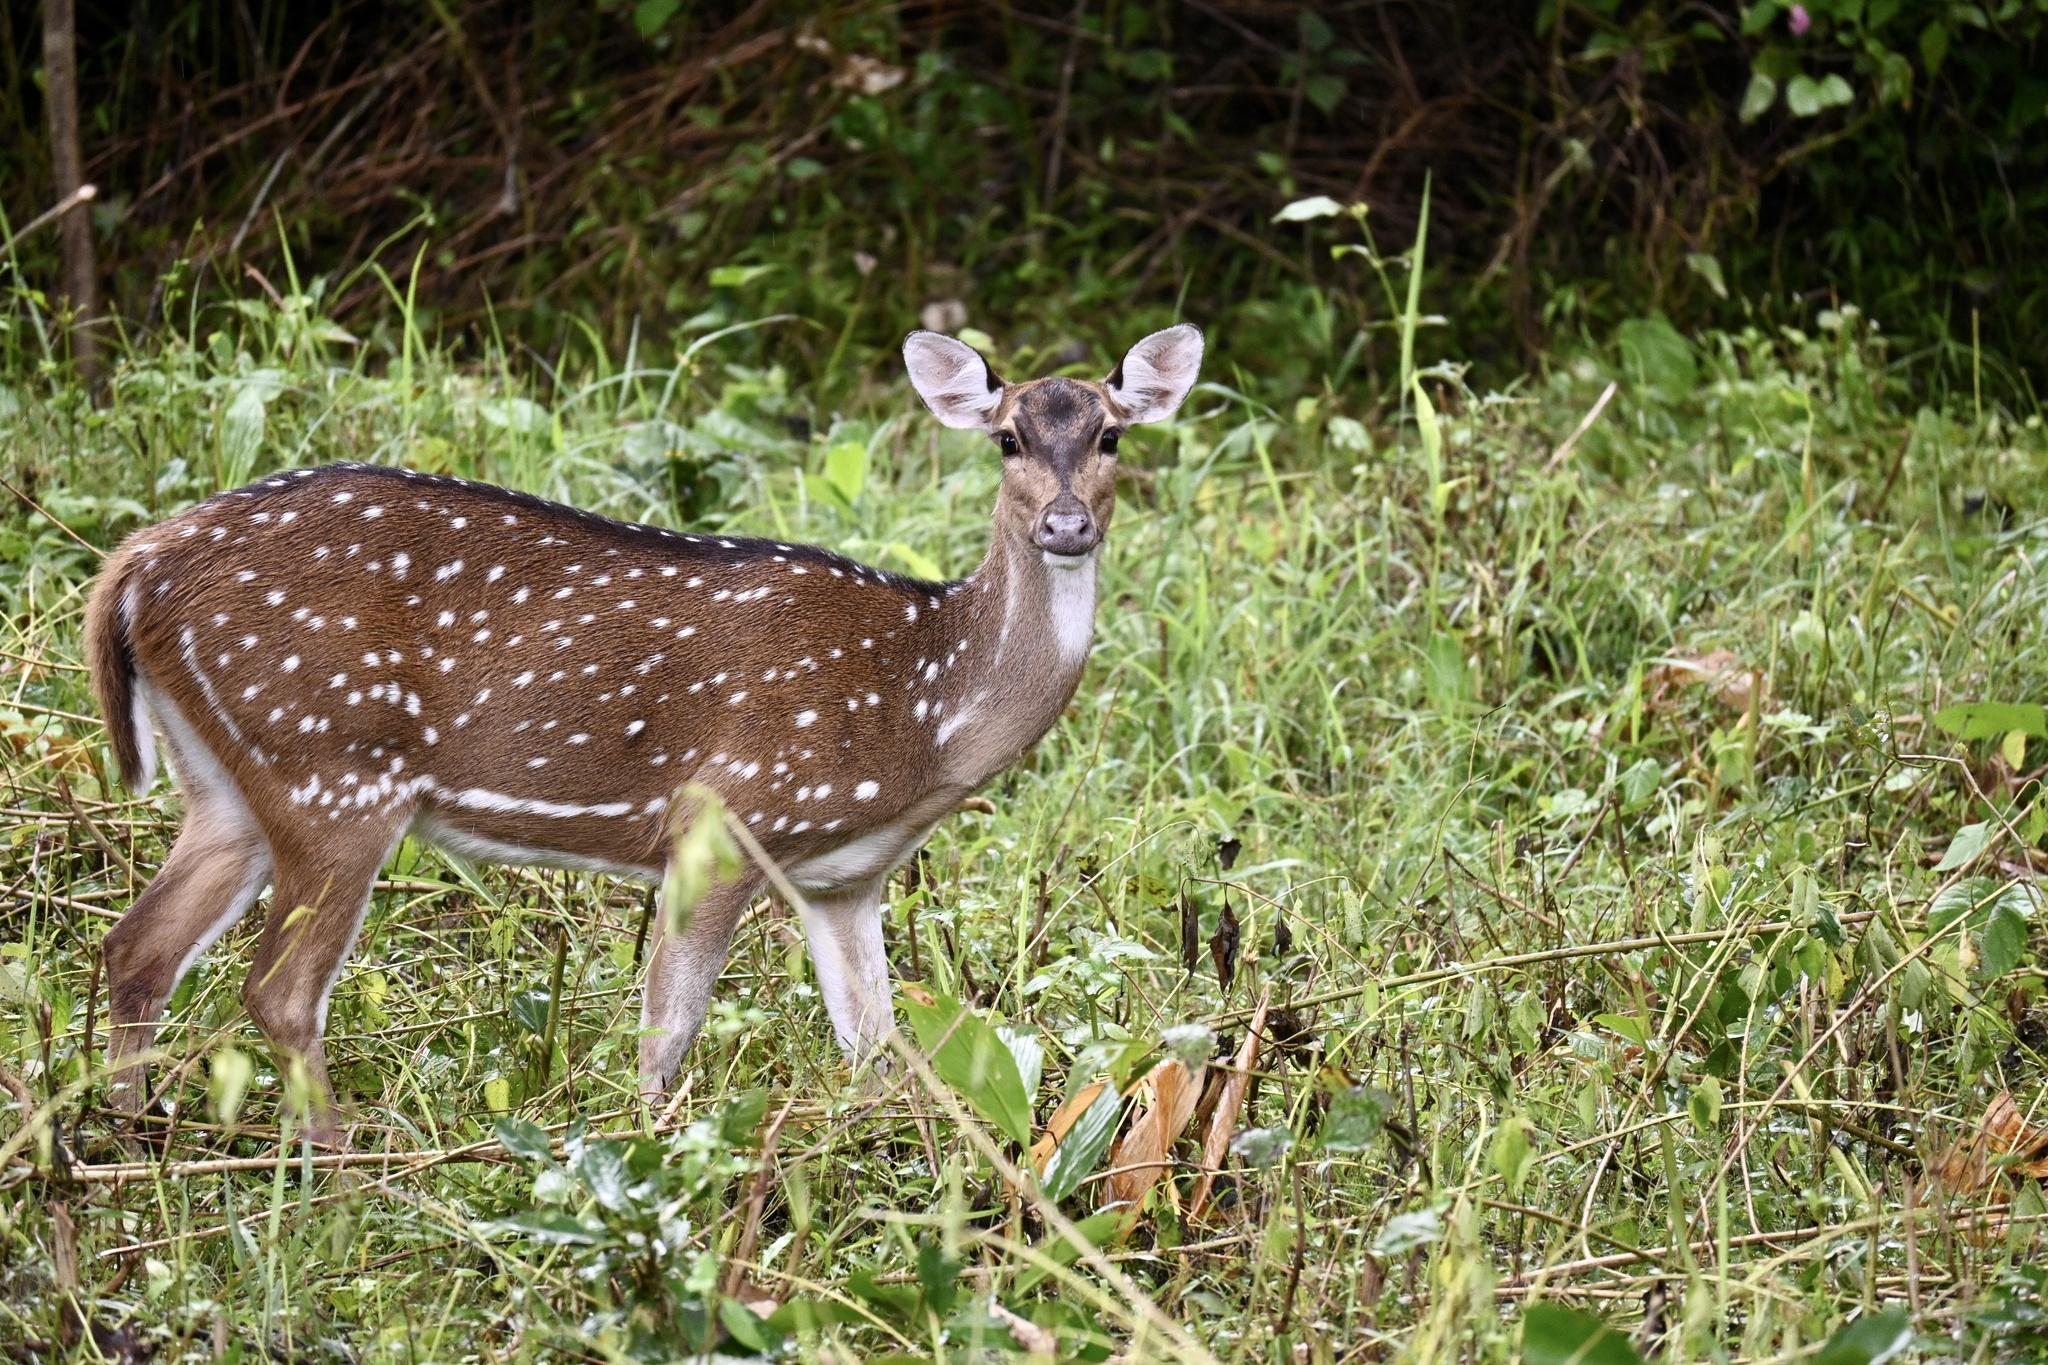Deer: (85, 324, 1201, 1092)
